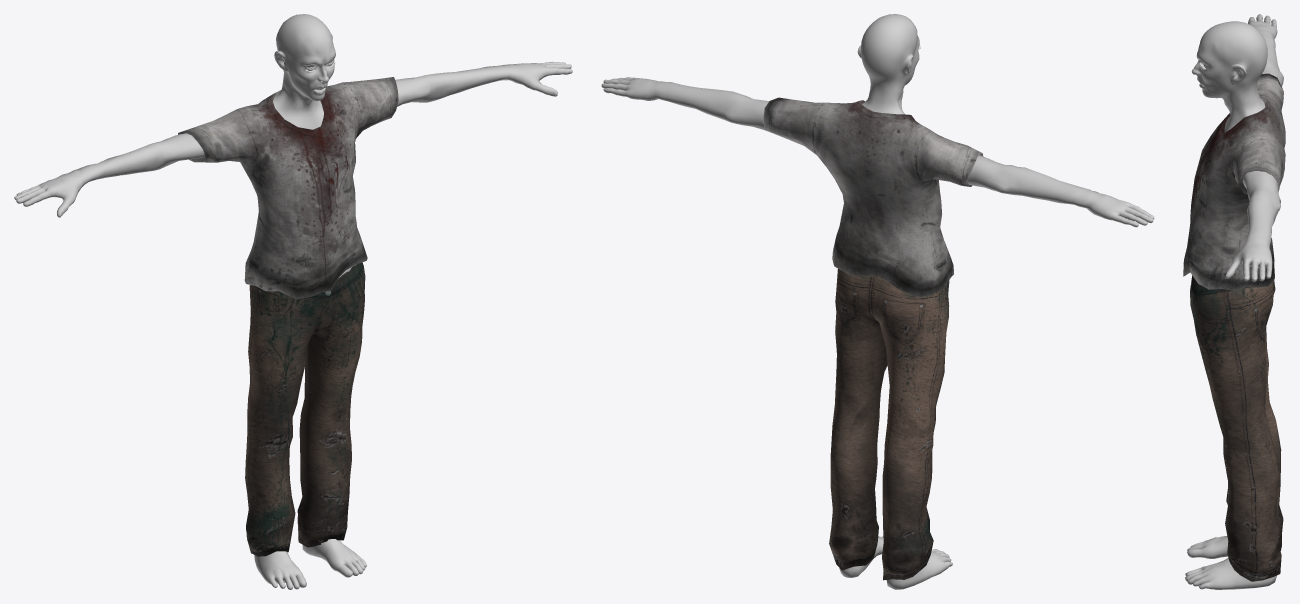
The model's file is Zombie_2.fbx.
3 renders of one model, left to right at view 1: azimuth 30°, elevation 25°; view 2: azimuth 150°, elevation 25°; view 3: azimuth 270°, elevation 25°, orthographic.
Parts seen in each view (by area): view 1: Bottoms, Tops, Body; view 2: Bottoms, Tops, Body; view 3: Bottoms, Tops, Body.
Boxes of the visible parts, box(x1,y1,x2,y2) form: Bottoms: box(245, 262, 365, 556); Tops: box(178, 77, 398, 298); Body: box(14, 14, 572, 589); Bottoms: box(829, 268, 949, 580); Tops: box(763, 97, 983, 297); Body: box(601, 14, 1154, 589); Bottoms: box(1190, 275, 1283, 581); Tops: box(1183, 73, 1285, 290); Body: box(1185, 14, 1283, 589).
Bounding box in the file's own units: 18691 × 17877 × 3028.
